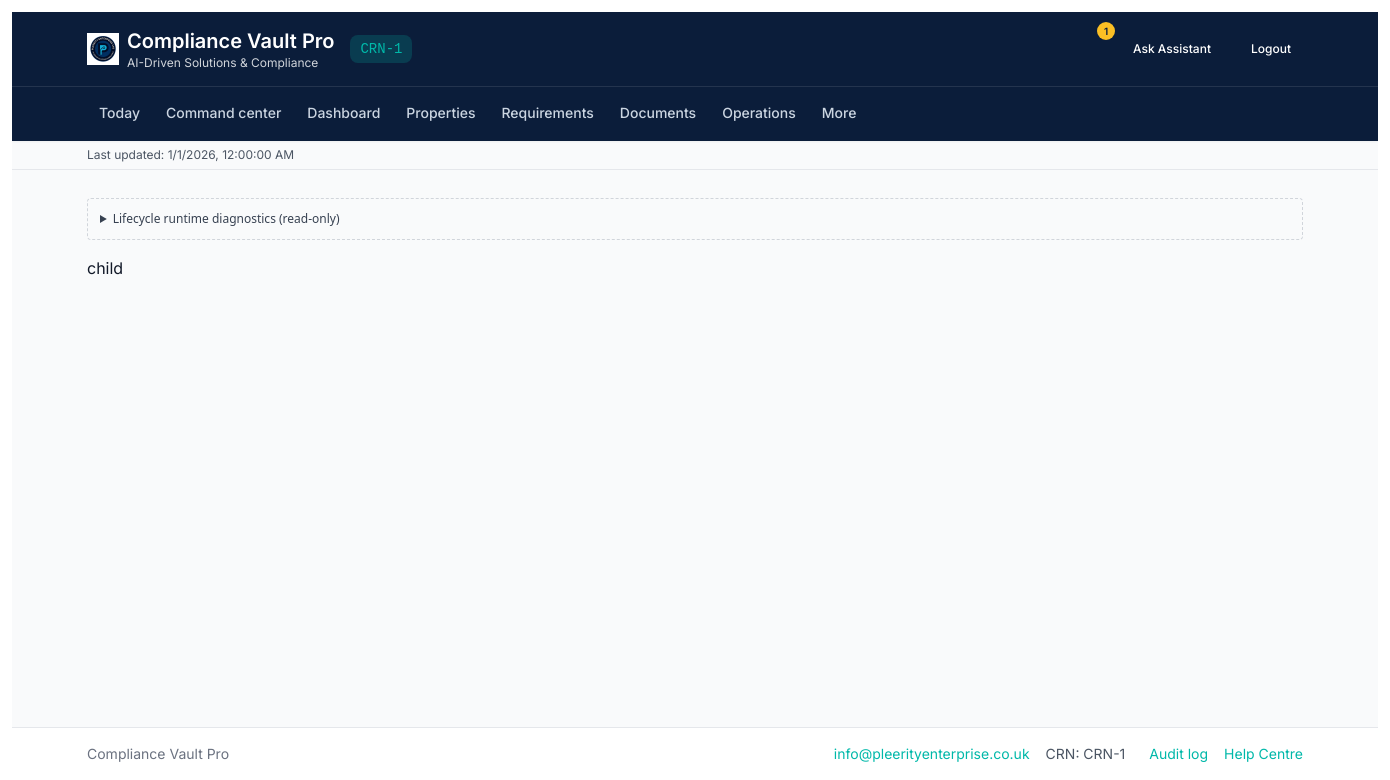
Scenario: ClientPortalLayout notification bell › does not show empty copy when count is 1 and list is empty
The image size is (1390, 780).
Expected: the text named "1 unread" is shown, [1097,22,1115,40]
Click the button named "notifications" at x=1091, y=46, box [1069,24,1113,68]
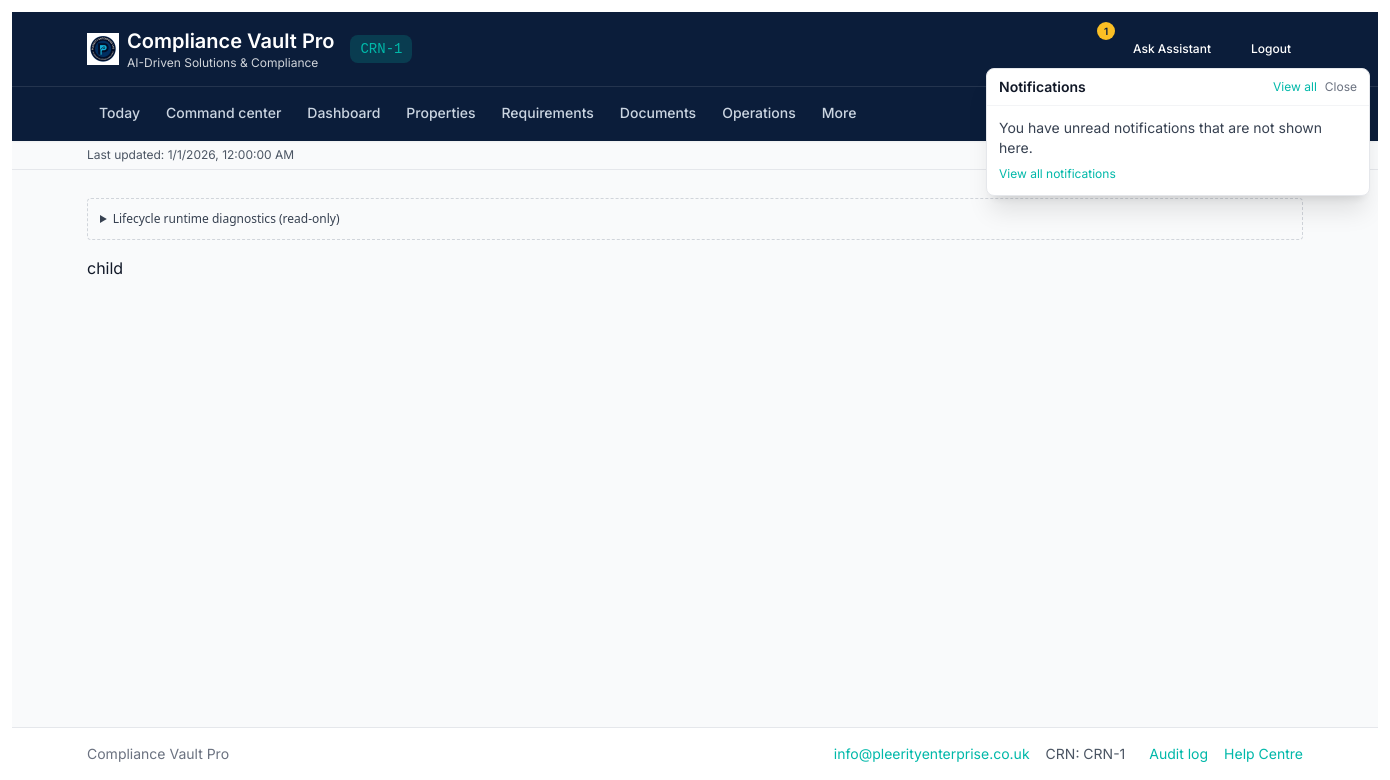
Result: the text "You have unread notifications that are not shown here." is shown at [999,118,1357,158]
